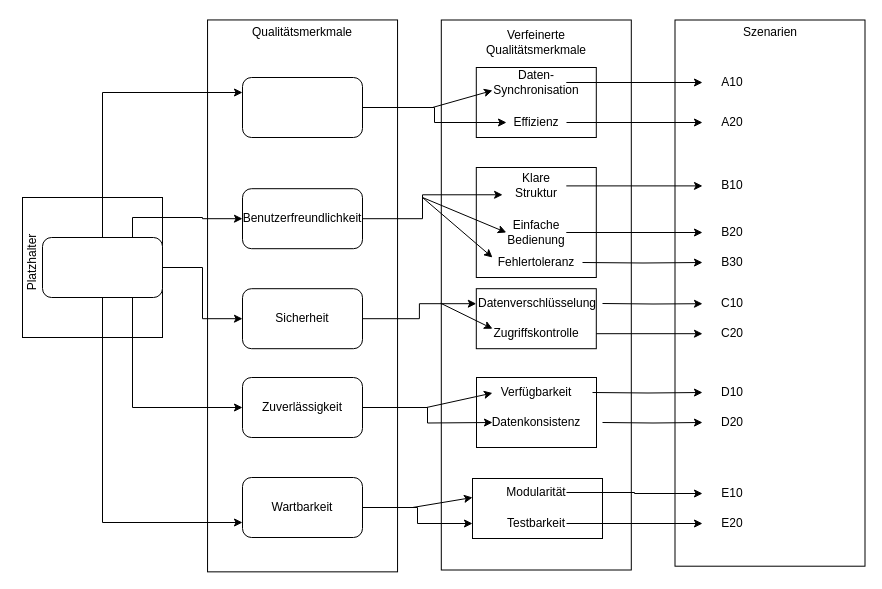
This 882x589 diagram has some shape labels left out. Each missing label, with the centre of its shape:
Performance: the point at 302,107
Qualität: the point at 102,267
